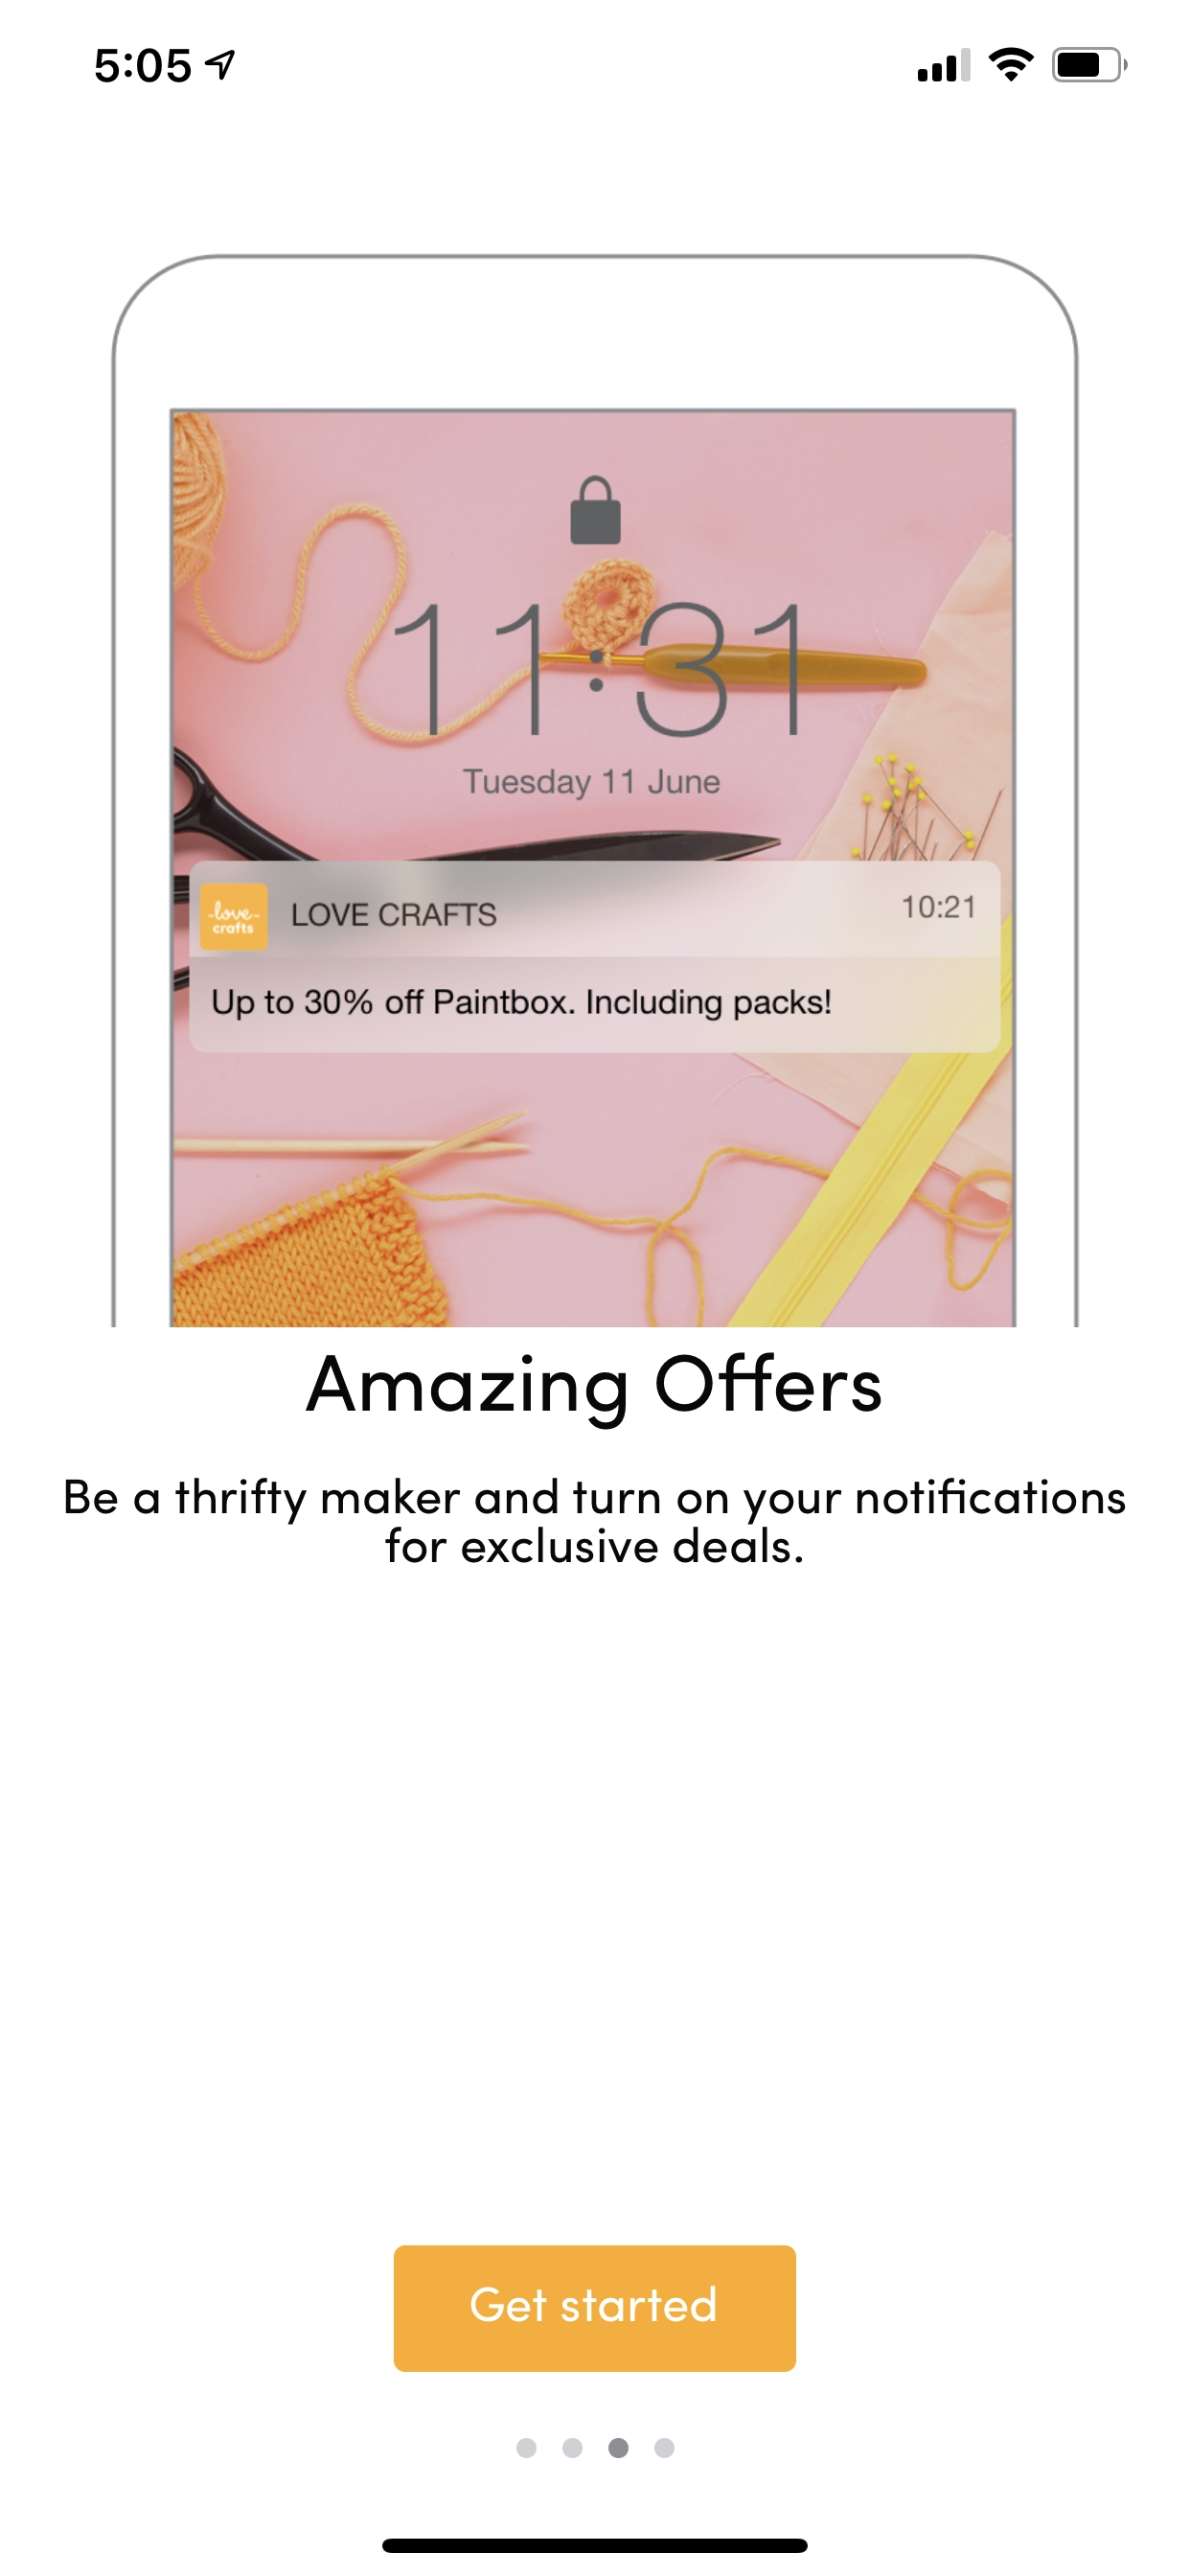Image: (110, 253, 1078, 1327)
PageIndicator: (516, 2436, 676, 2458)
Text: (66, 1477, 1126, 1562), (306, 1350, 881, 1429)
TextButton: (394, 2244, 796, 2372)
UpperTaskBar: (95, 48, 1128, 84)
